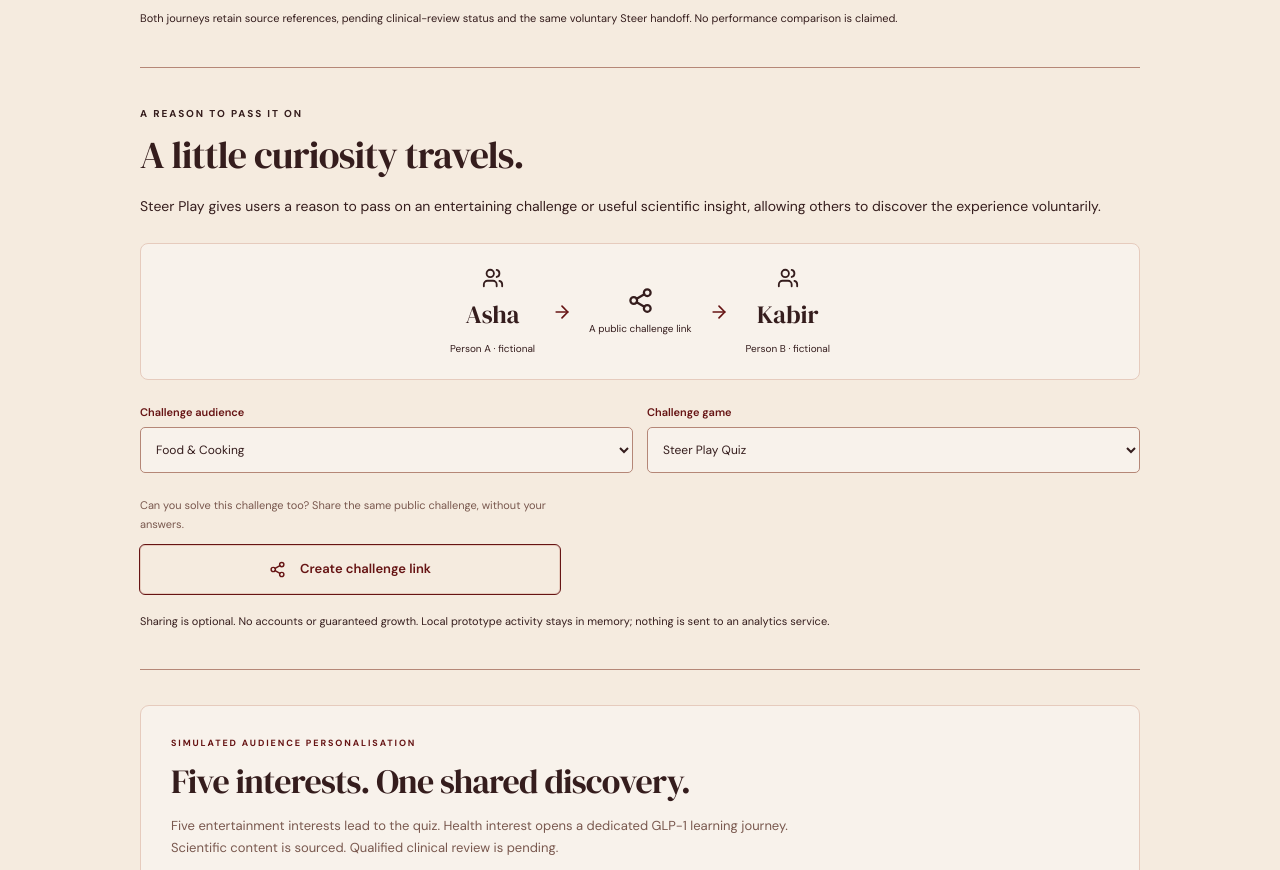
campaign entries and judge tools › creates a real public variation and offers an isolated friend entry even if copying fails
The image size is (1280, 870).
(page scrolled)
Expected: the heading "A little curiosity travels." is shown, [140,129,524,181]
Expected: the link "Open as friend" is not shown
Select "Everyday Lifestyle" in the dropdown labelled "Challenge audience" at (386, 450), box [140,428,633,474]
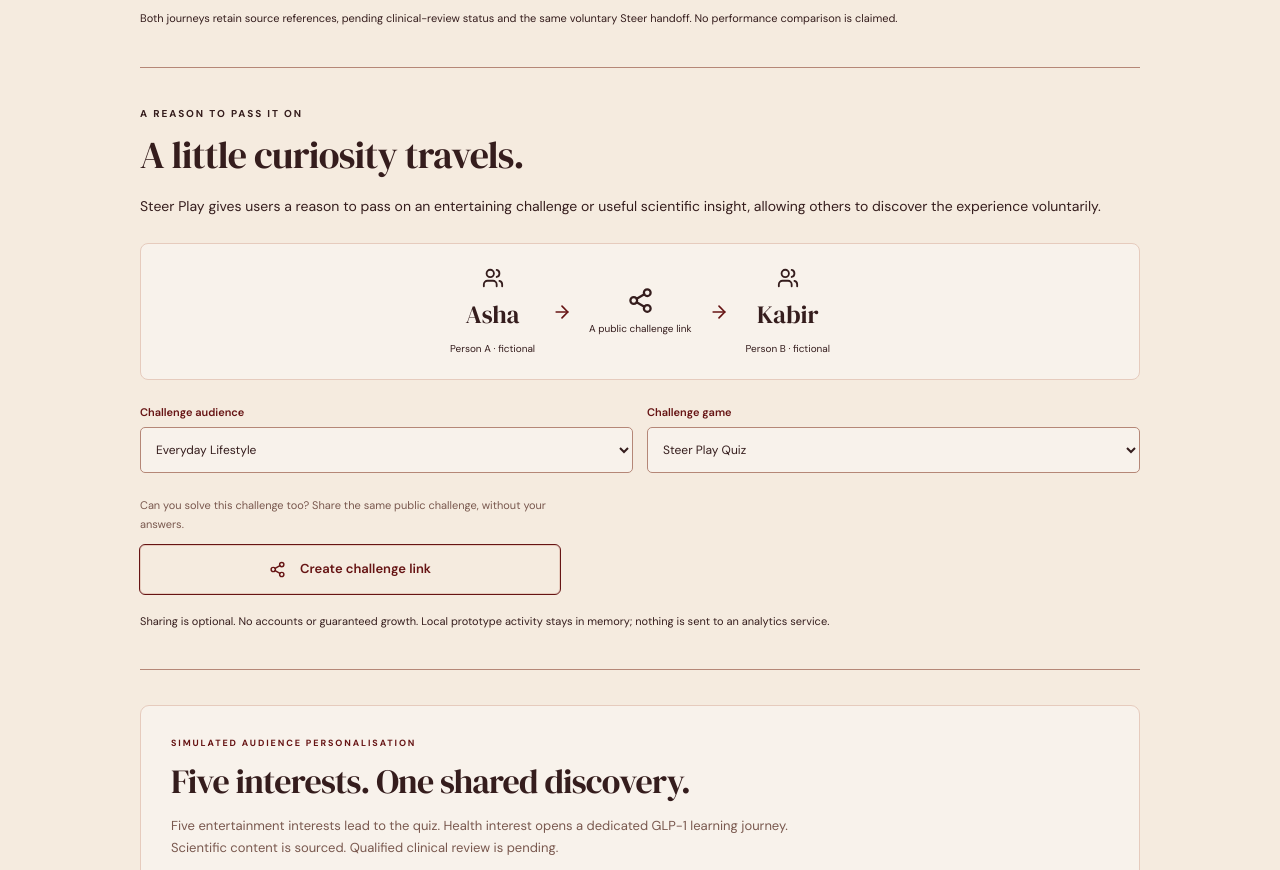
Select "Predict the Twist" in the dropdown labelled "Challenge game" at (894, 450), box [647,428,1140,474]
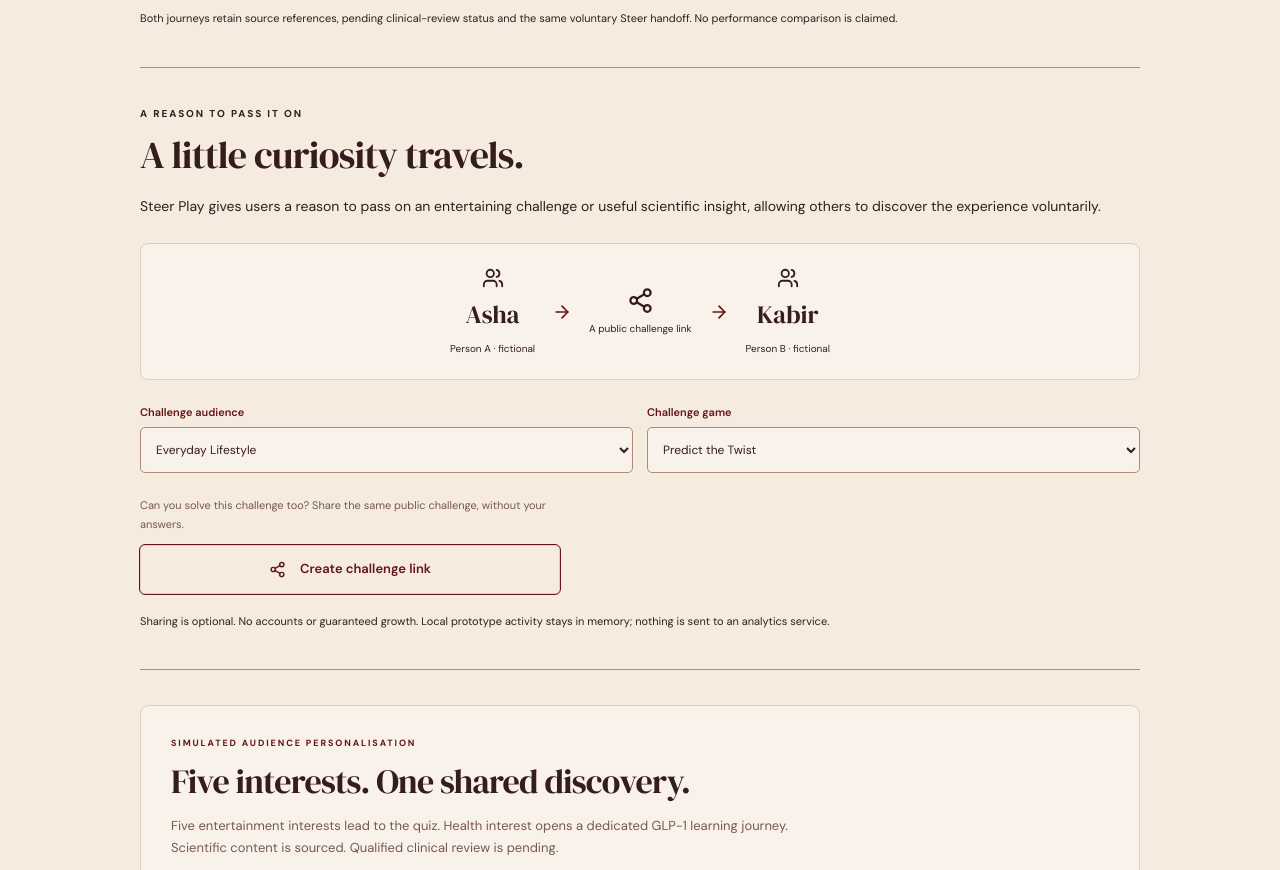
Click the button "Create challenge link".
click(350, 569)  # box [140,545,560,594]
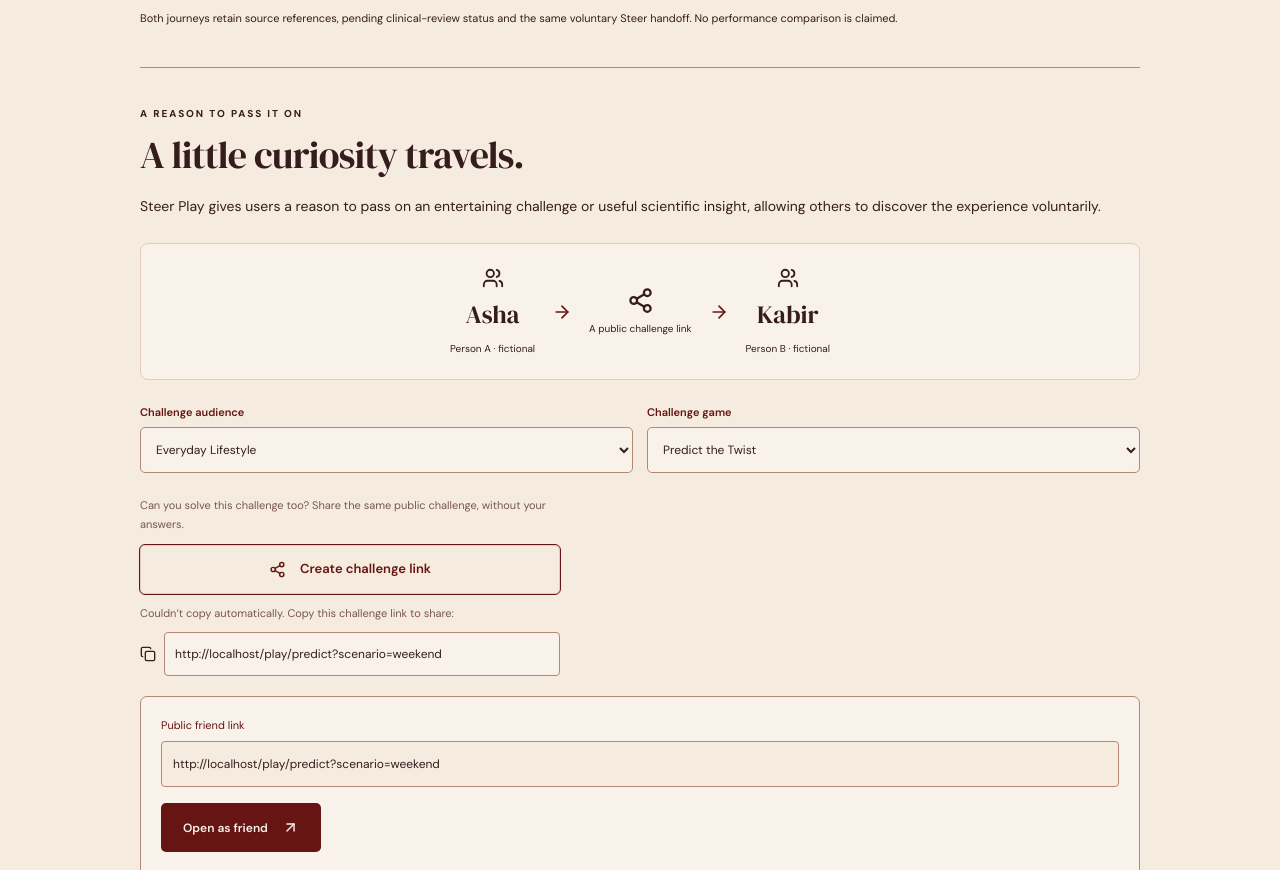
Select "Steer Play Quiz" in the dropdown labelled "Challenge game" at (894, 450), box [647,428,1140,474]
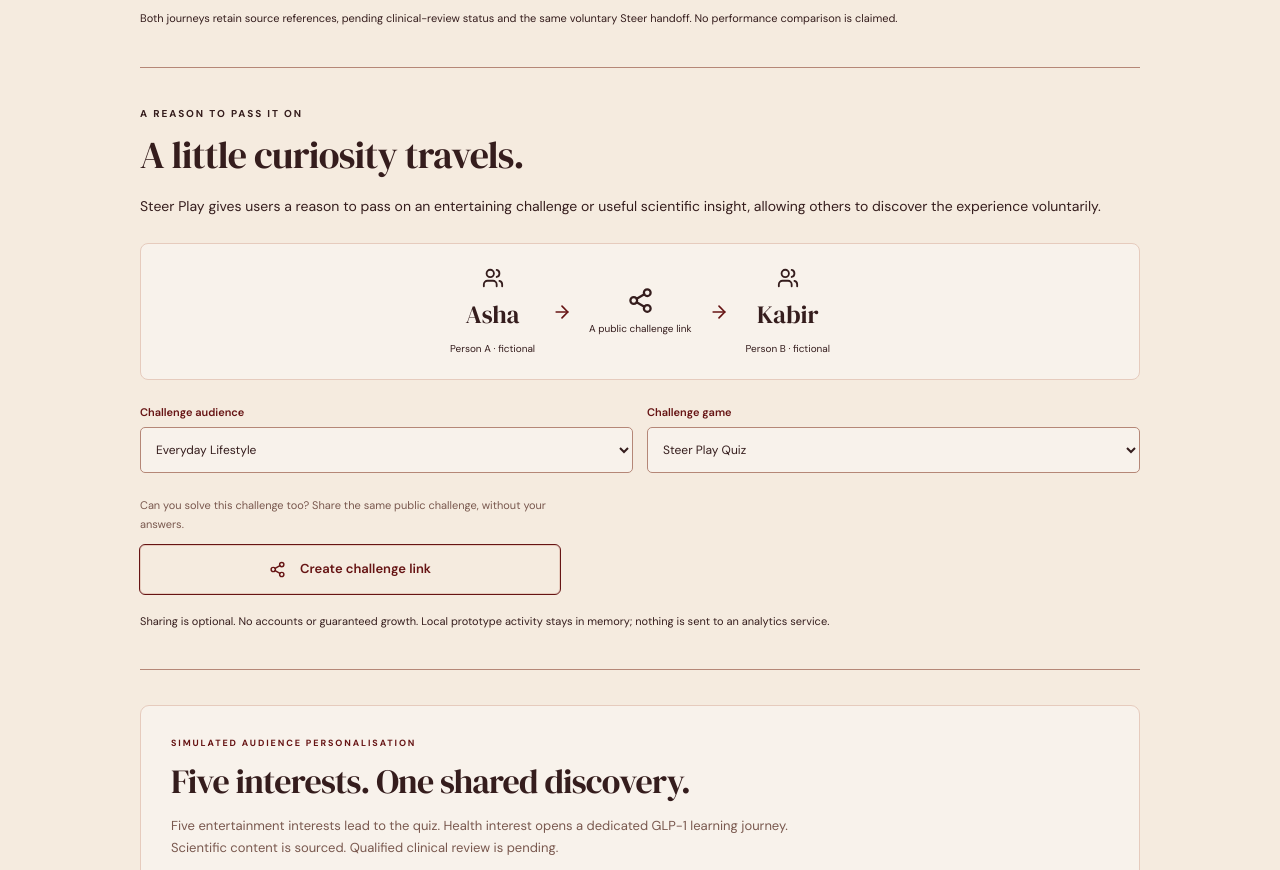
Expected: the link "Open as friend" is gone
